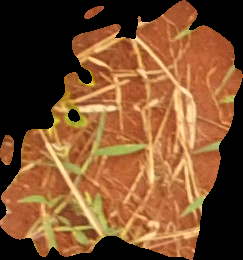soil: (1, 1, 243, 259)
